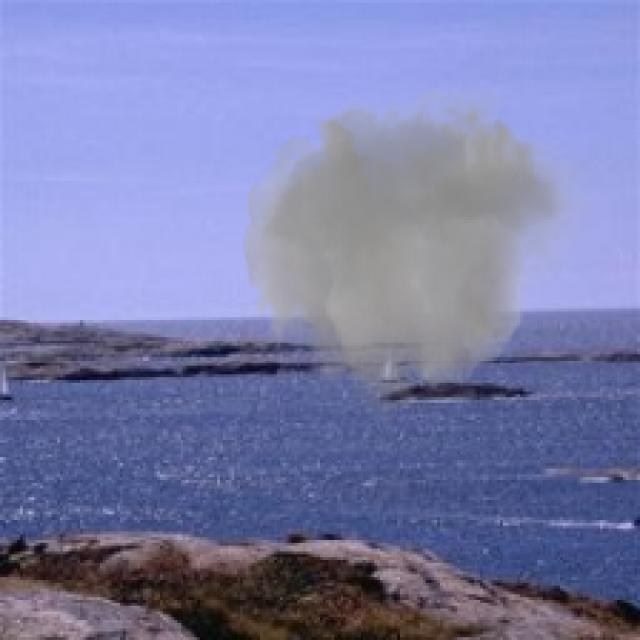Smoke: (235, 71, 594, 432)
